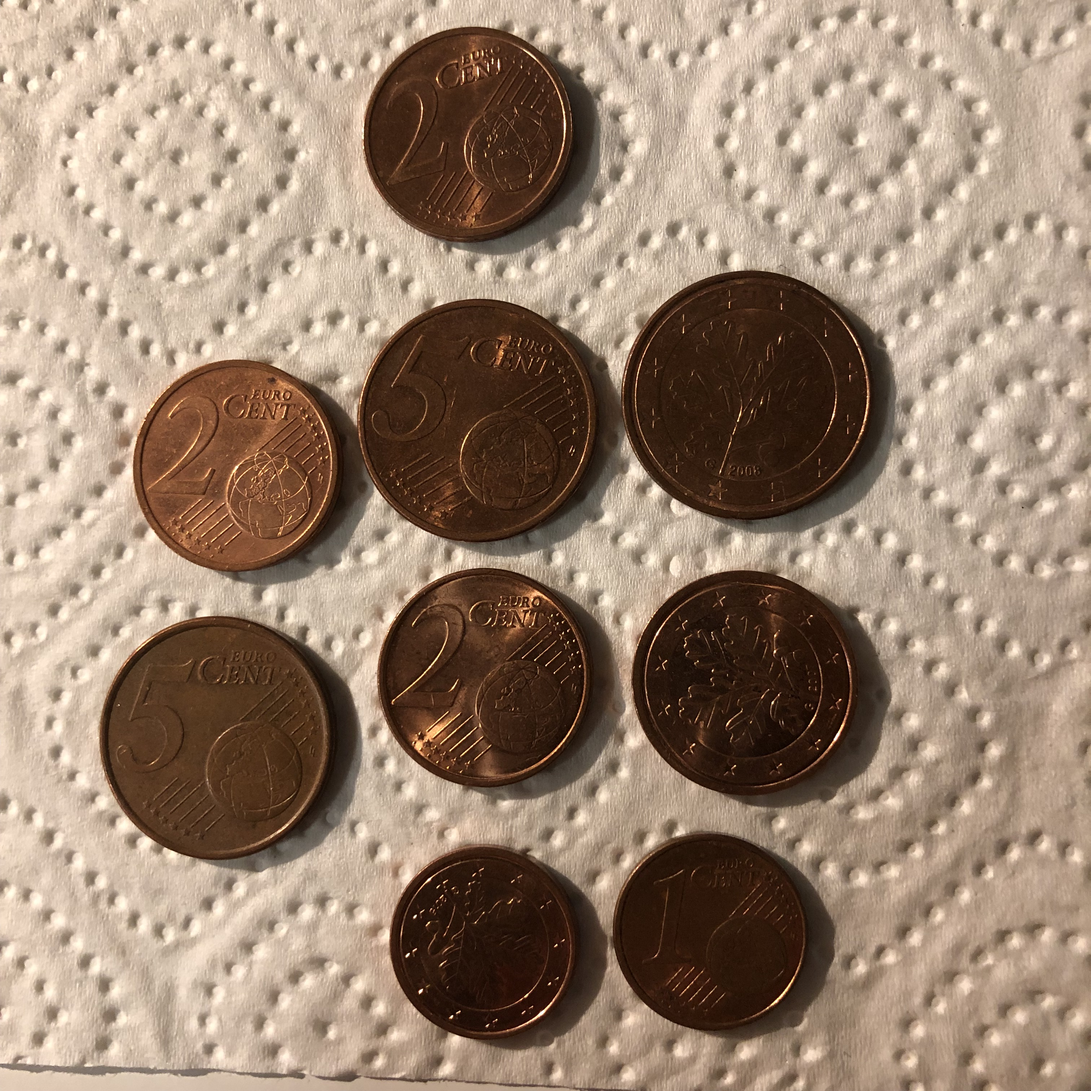1 cent: (607, 828, 809, 1032), (384, 841, 577, 1038)
2 cent: (125, 351, 348, 577), (374, 565, 597, 790), (630, 566, 852, 792), (360, 22, 582, 248)
5 cent: (623, 270, 878, 521), (97, 615, 344, 862), (352, 301, 599, 547)
